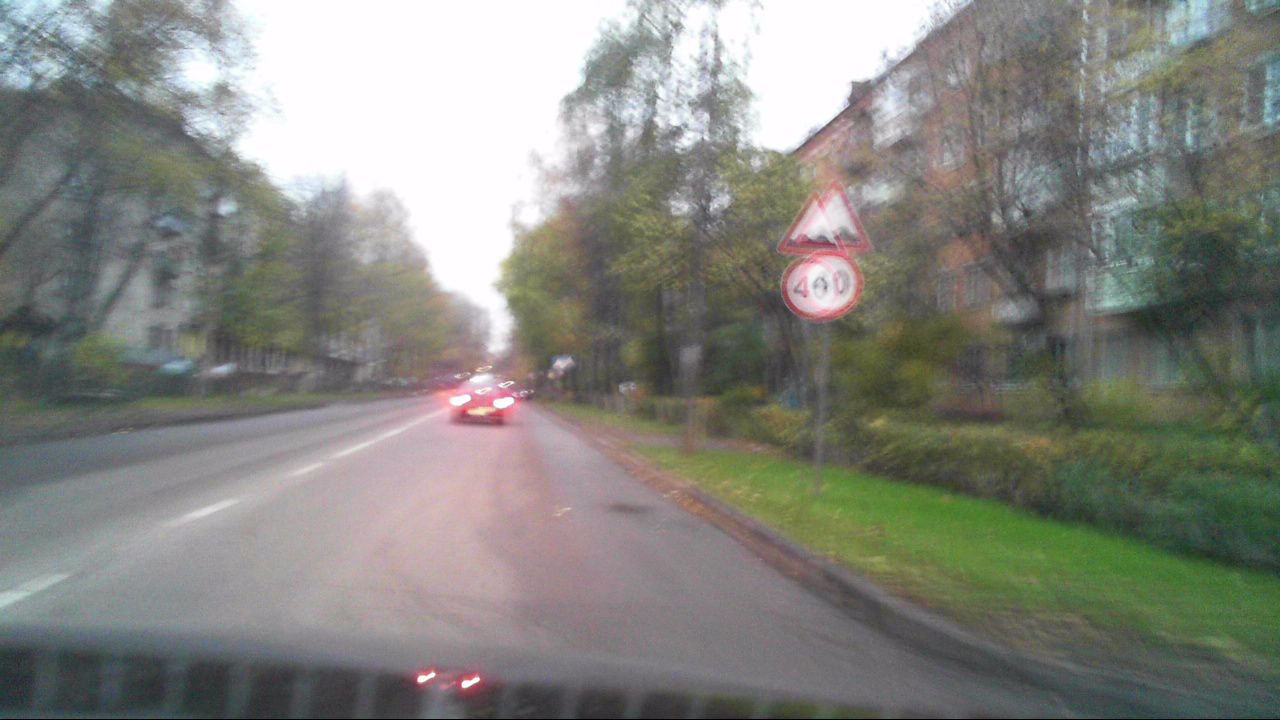speed_warning_40: (781, 258, 840, 321)
